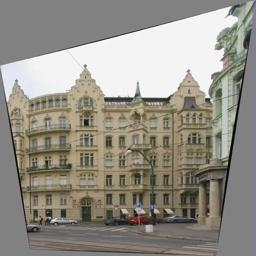building: (8, 68, 214, 228)
